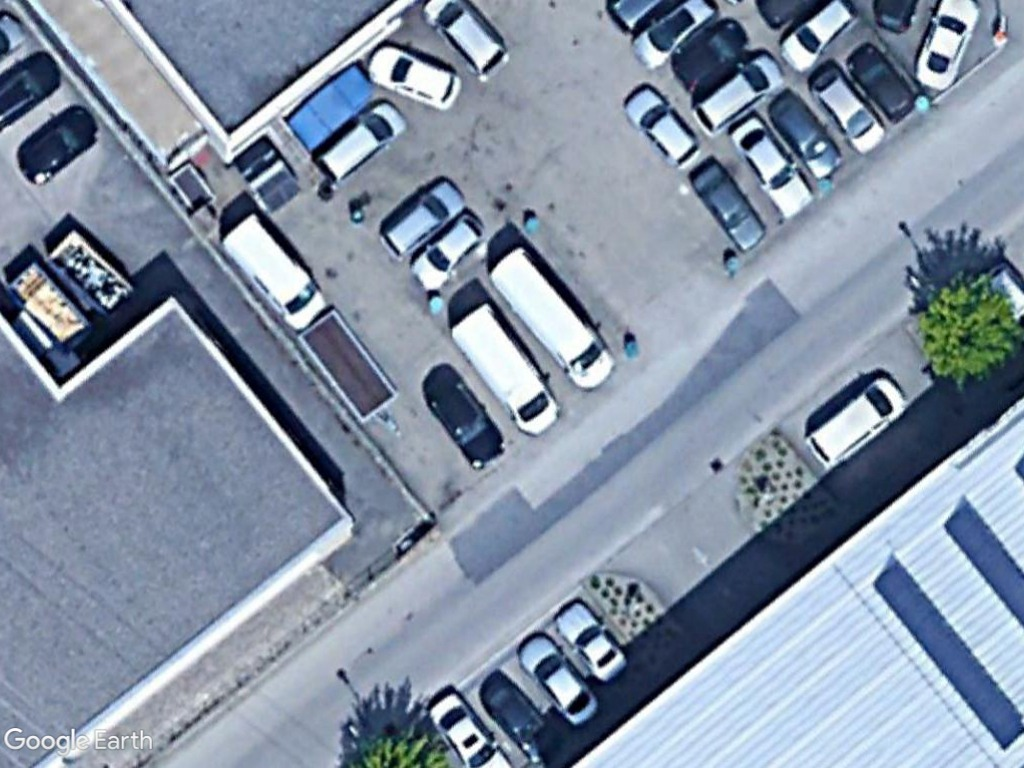car: (760, 84, 846, 190), (685, 50, 788, 137), (424, 373, 511, 472), (730, 117, 812, 218), (479, 676, 568, 768), (374, 176, 470, 260), (515, 632, 599, 727), (312, 98, 407, 179), (687, 161, 768, 254), (17, 101, 104, 186), (807, 60, 883, 156), (622, 83, 704, 170), (407, 209, 487, 296), (910, 0, 987, 90), (362, 44, 463, 112), (772, 0, 855, 81), (554, 600, 632, 683), (845, 37, 916, 128), (625, 0, 718, 68), (670, 23, 751, 98)
van: (488, 247, 616, 392), (450, 299, 561, 438), (216, 209, 325, 331), (801, 373, 908, 472)
